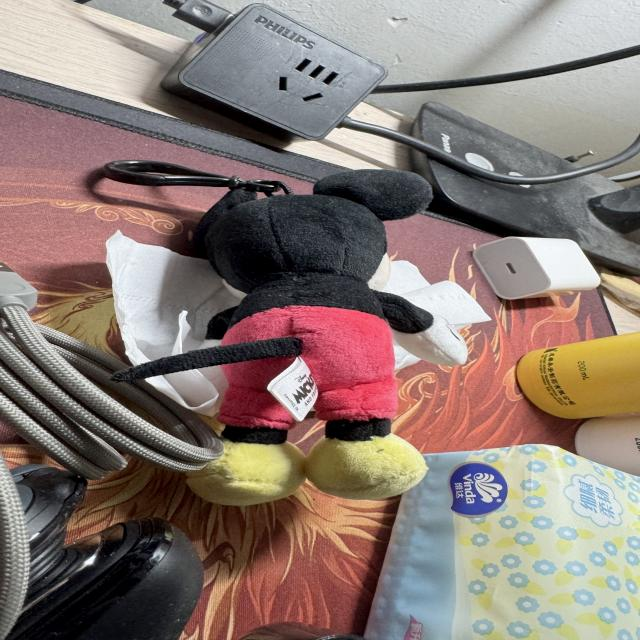mickey: (115, 170, 467, 505)
tissue: (107, 232, 239, 364)
